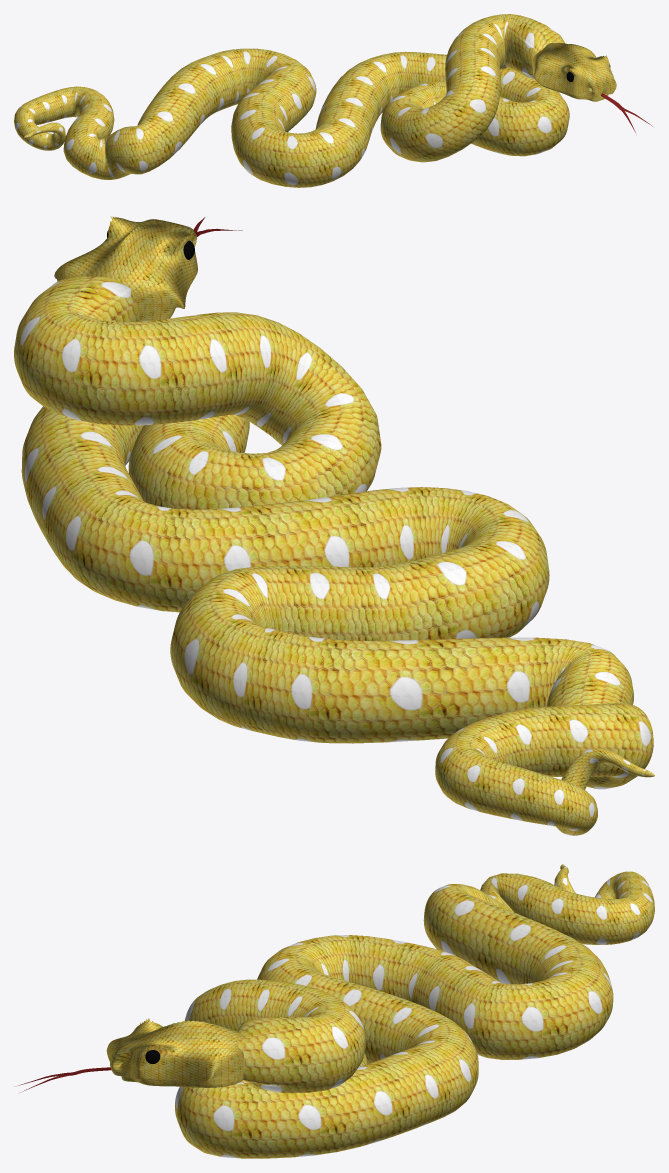
3 renders of one model, top to bottom at view 1: azimuth 30°, elevation 25°; view 2: azimuth 150°, elevation 25°; view 3: azimuth 270°, elevation 25°, orthographic. The views are drawn at different scales.
Parts seen in each view (by area): view 1: Snake; view 2: Snake; view 3: Snake.
Part boxes in pixels (box(x1,y1,x2,y2)): Snake: box(14, 14, 652, 187); Snake: box(14, 216, 654, 835); Snake: box(14, 864, 654, 1158).
Bounding box in the file's own units: 2.98 × 0.8023 × 2.67.
4 materials, 2 textured.
